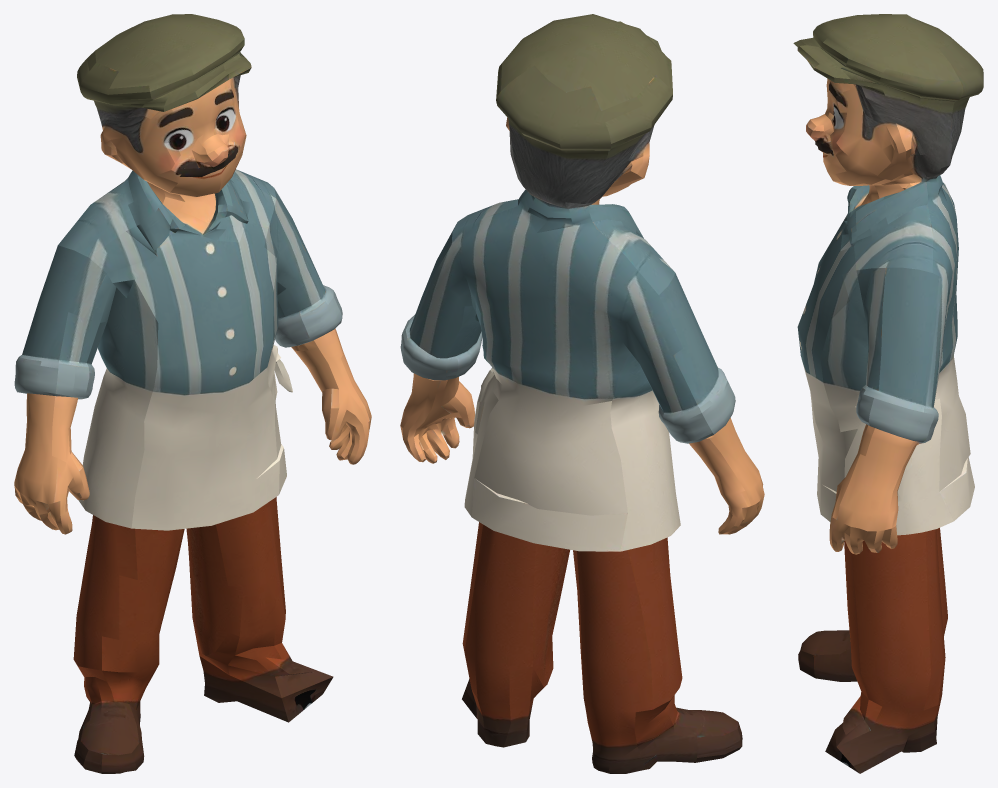
Rendered from pazarci.glb.
The picture shows the model from 3 angles, left to right: view 1: azimuth 30°, elevation 25°; view 2: azimuth 150°, elevation 25°; view 3: azimuth 270°, elevation 25°; orthographic projection. The views are drawn at different scales.
Parts seen in each view (by area): view 1: Mesh0; view 2: Mesh0; view 3: Mesh0.
Part boxes in pixels (<box>): Mesh0: <box>14,14,371,773</box>; Mesh0: <box>400,14,764,773</box>; Mesh0: <box>793,14,983,773</box>.
Size of the model in its own units: 0.9783 by 1.9 by 0.4736.
1 material, 1 textured.
